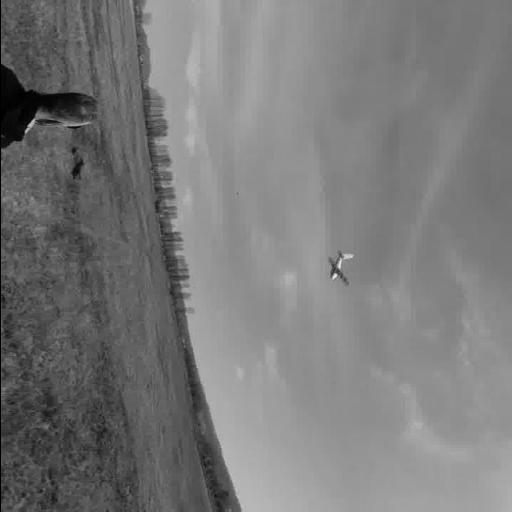uav: (320, 249, 362, 288)
